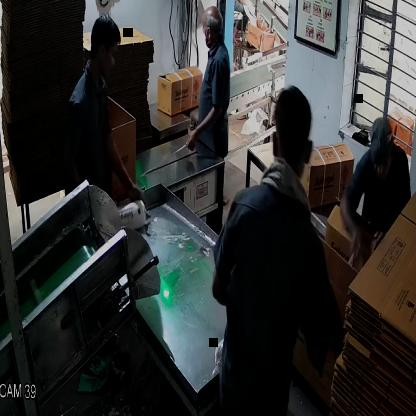no_glove: (102, 128, 143, 211), (338, 188, 374, 272), (178, 104, 229, 152)
